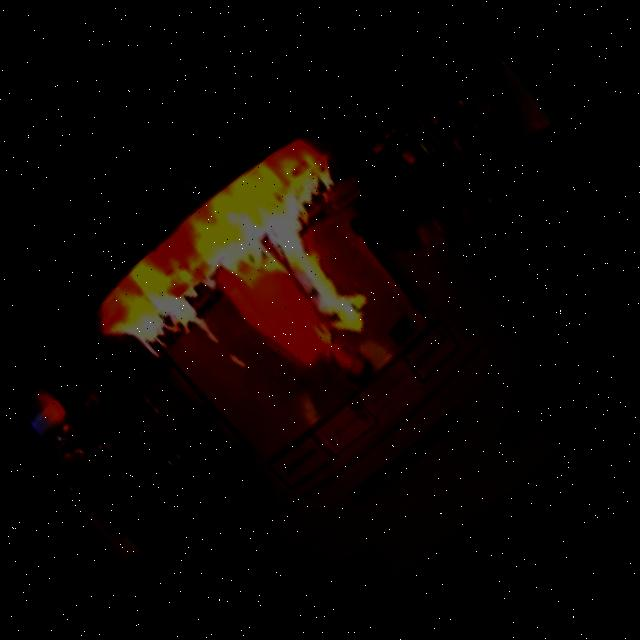Smoke: (83, 146, 437, 469)
